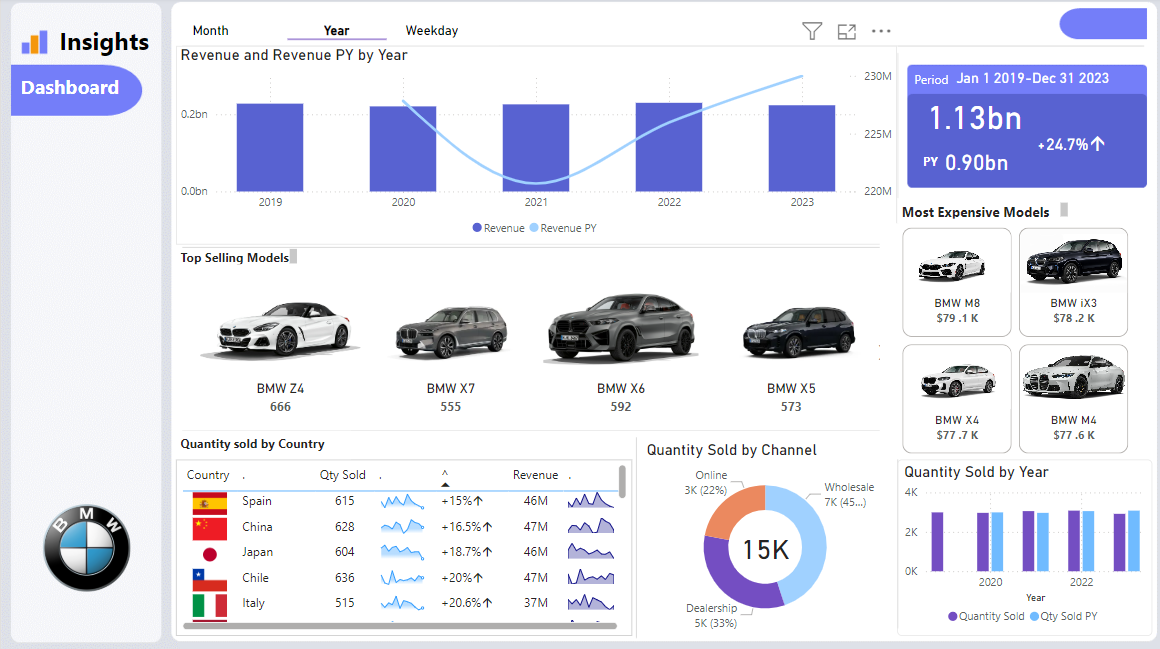

What the dashboard file says about the page in this screenshot:
{"tool":"powerbi","page":{"name":"Page 1","canvas":[1280,720],"ordinal":0},"visuals":[{"type":"lineClusteredColumnComboChart","fields":{"Category":["Calendar.Year"],"Y":["All Measures.Revenue"],"Y2":["All Measures.Revenue PY"]},"box":[192.1,53.5,791.8,218.2],"z":0},{"type":"advancedSlicerVisual","fields":{"Values":["PeriodSlicer.PeriodSlicer"]},"box":[191.8,9.7,353.5,43.4],"z":1000},{"type":"card","fields":{"Values":["All Measures.Revenue"]},"box":[995.6,97.8,145.6,64.4],"z":2000},{"type":"card","fields":{"Values":["All Measures.Revenue PY"]},"box":[999.1,148.1,144.7,64.7],"z":3000},{"type":"textbox","box":[1006.7,165.6,34.4,28.9],"z":4000},{"type":"card","fields":{"Values":["All Measures.Revenue Variance % Arrow"]},"box":[1125.6,130,100,64.4],"z":5000},{"type":"card","fields":{"Values":["All Measures.Selected Period"]},"box":[1040,71.1,185.6,37.8],"z":6000},{"type":"textbox","box":[997.4,76.6,74.9,37.4],"z":7000},{"type":"textbox","box":[191.8,271.4,137.5,26.5],"z":8000},{"type":"advancedSlicerVisual","fields":{"Values":["dimModel.Model"]},"box":[191.8,304,791.4,171.3],"z":9000},{"type":"advancedSlicerVisual","fields":{"Values":["dimModel.Model"]},"box":[964.7,248.4,299.1,259.3],"z":10000},{"type":"textbox","box":[983.9,220.9,192.1,27.4],"z":11000},{"type":"clusteredColumnChart","title":"Quantity Sold by Year","fields":{"Y":["All Measures.Quantity Sold","All Measures.Qty Sold PY"],"Category":["Calendar.Year"]},"box":[983.9,507.7,279.9,193.5],"z":12000},{"type":"donutChart","fields":{"Y":["All Measures.Quantity Sold"],"Category":["dimChannel.Channel"]},"box":[703.9,487.1,270.3,214.1],"z":13000},{"type":"card","fields":{"Values":["All Measures.Quantity Sold"]},"box":[795.9,576.3,86.4,56.3],"z":14000},{"type":"tableEx","fields":{"Values":["dimCountry.Countries with Flags URL.Column4","dimCountry.Country","All Measures.Quantity Sold","All Measures.Opaque Area Sparkline (no one value) bright","All Measures.Qty Sold Variance % Arrow","All Measures.Revenue","All Measures.Revenue Sparkline"]},"box":[192.1,507.7,500.9,193.5],"z":15000},{"type":"textbox","box":[192.1,476.2,192.1,31.6],"z":16000},{"type":"textbox","box":[16.9,78.4,129.1,39.8],"z":17000},{"type":"image","box":[41.3,550.2,105.5,108.3],"z":17001},{"type":"textbox","box":[58.4,24.2,126.9,47],"z":17002},{"type":"image","box":[17.1,24.2,41.3,47],"z":17003}]}

Visuals, with their boxes in screenshot pixels (x1, y1, x2, y2), scaled from the page's 1280x720 canvas onto the 1160x649 screenshot:
lineClusteredColumnComboChart - Calendar.Year x All Measures.Revenue: Rect(174, 48, 892, 245)
advancedSlicerVisual - PeriodSlicer.PeriodSlicer: Rect(174, 9, 494, 48)
card - All Measures.Revenue: Rect(902, 88, 1034, 146)
card - All Measures.Revenue PY: Rect(905, 133, 1037, 192)
textbox: Rect(912, 149, 943, 175)
card - All Measures.Revenue Variance % Arrow: Rect(1020, 117, 1111, 175)
card - All Measures.Selected Period: Rect(942, 64, 1111, 98)
textbox: Rect(904, 69, 972, 103)
textbox: Rect(174, 245, 298, 269)
advancedSlicerVisual - dimModel.Model: Rect(174, 274, 891, 428)
advancedSlicerVisual - dimModel.Model: Rect(874, 224, 1145, 458)
textbox: Rect(892, 199, 1066, 224)
"Quantity Sold by Year" clusteredColumnChart: Rect(892, 458, 1145, 632)
donutChart - All Measures.Quantity Sold x dimChannel.Channel: Rect(638, 439, 883, 632)
card - All Measures.Quantity Sold: Rect(721, 519, 800, 570)
tableEx - dimCountry.Countries with Flags URL.Column4 x dimCountry.Country: Rect(174, 458, 628, 632)
textbox: Rect(174, 429, 348, 458)
textbox: Rect(15, 71, 132, 107)
image: Rect(37, 496, 133, 594)
textbox: Rect(53, 22, 168, 64)
image: Rect(15, 22, 53, 64)
